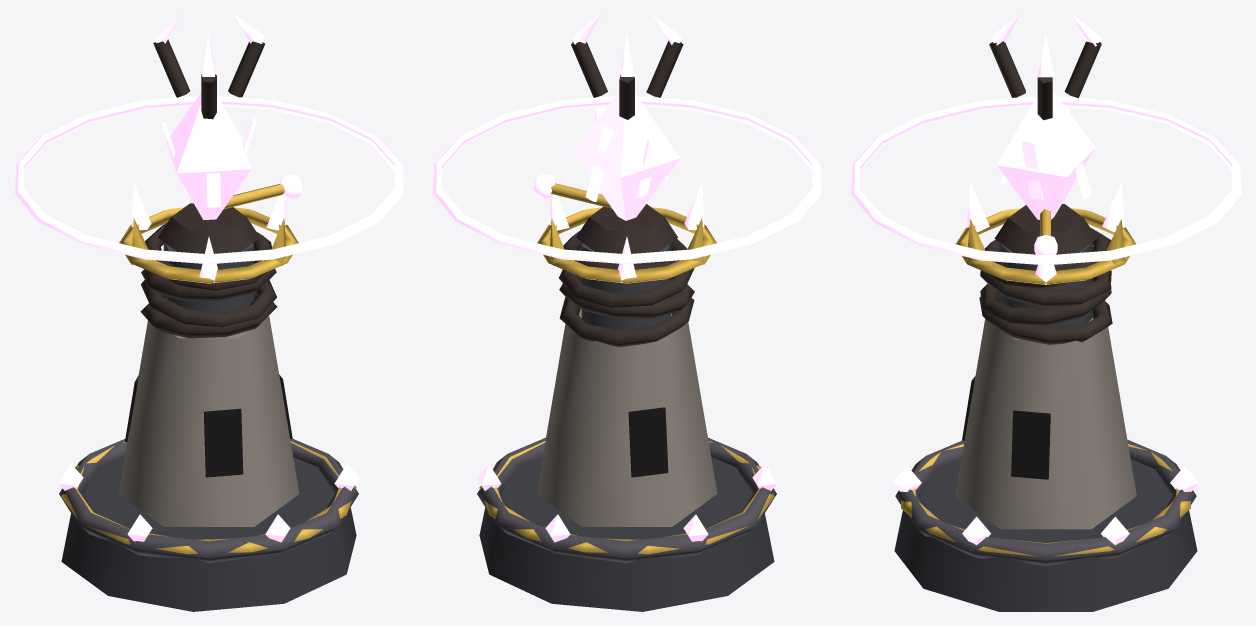
File: tower_chain_thunder_ultimate.glb
3 views of the same model, side by side, from view 1: azimuth 30°, elevation 25°; view 2: azimuth 150°, elevation 25°; view 3: azimuth 270°, elevation 25° (orthographic).
Parts seen in each view (by area): view 1: shaft, base, ult_halo, base_rim, crystal_core, cap, ult_crown_band, scorch_1, coil_1, ult_ring, coil_0, coil_2 (+8 smaller); view 2: shaft, base, ult_halo, base_rim, crystal_core, cap, ult_crown_band, scorch_2, coil_0, coil_2, coil_core, coil_1 (+9 smaller); view 3: shaft, base, ult_halo, base_rim, crystal_core, cap, ult_crown_band, scorch_0, coil_0, coil_1, coil_2, ult_ring (+9 smaller).
Boxes of the visible parts, left/top/right/bottom form: shaft: left=118, top=316, right=299, bottom=526; base: left=61, top=457, right=356, bottom=611; ult_halo: left=14, top=96, right=403, bottom=264; base_rim: left=59, top=438, right=358, bottom=562; crystal_core: left=166, top=92, right=251, bottom=220; cap: left=158, top=203, right=259, bottom=253; ult_crown_band: left=119, top=207, right=298, bottom=283; scorch_1: left=203, top=408, right=243, bottom=477; coil_1: left=141, top=280, right=276, bottom=327; ult_ring: left=61, top=441, right=356, bottom=554; coil_0: left=140, top=291, right=277, bottom=338; coil_2: left=141, top=260, right=276, bottom=300; shaft: left=536, top=309, right=717, bottom=526; base: left=479, top=457, right=774, bottom=611; ult_halo: left=432, top=96, right=821, bottom=264; base_rim: left=477, top=437, right=776, bottom=562; crystal_core: left=574, top=92, right=680, bottom=220; cap: left=576, top=204, right=677, bottom=253; ult_crown_band: left=537, top=207, right=716, bottom=283; scorch_2: left=628, top=407, right=668, bottom=477; coil_0: left=559, top=297, right=694, bottom=347; coil_2: left=559, top=248, right=694, bottom=307; coil_core: left=581, top=242, right=672, bottom=330; coil_1: left=559, top=276, right=694, bottom=318; shaft: left=955, top=317, right=1136, bottom=529; base: left=894, top=459, right=1197, bottom=611; ult_halo: left=850, top=96, right=1241, bottom=265; base_rim: left=895, top=439, right=1196, bottom=565; crystal_core: left=996, top=91, right=1095, bottom=219; cap: left=994, top=204, right=1097, bottom=254; ult_crown_band: left=956, top=208, right=1135, bottom=284; scorch_0: left=1011, top=410, right=1050, bottom=479; coil_0: left=979, top=297, right=1112, bottom=344; coil_1: left=980, top=283, right=1111, bottom=325; coil_2: left=980, top=263, right=1111, bottom=307; ult_ring: left=901, top=444, right=1190, bottom=556.
Bounding box in the file's own units: 0.434 × 0.64 × 0.4274.
